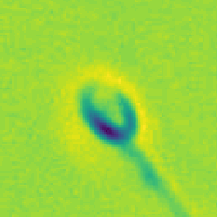normal: (125, 138, 208, 217)
